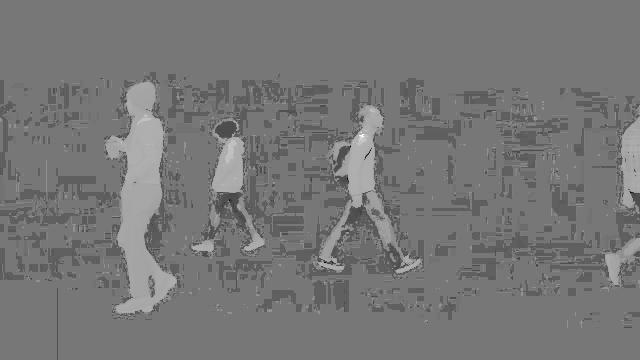berjalan: (91, 75, 179, 322), (310, 99, 426, 283), (191, 115, 269, 262)
